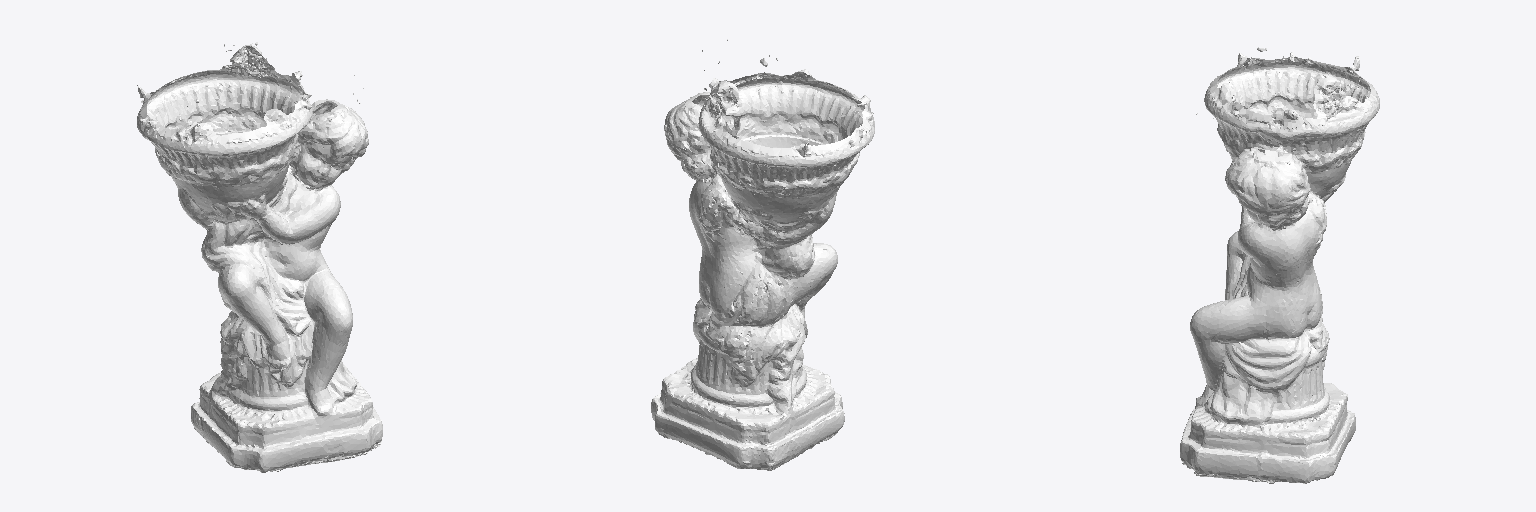
The model's file is angel_small.obj.
The picture shows the model from 3 angles: view 1: azimuth 30°, elevation 25°; view 2: azimuth 150°, elevation 25°; view 3: azimuth 270°, elevation 25°; orthographic projection.
Size of the model in its own units: 0.5201 by 0.9102 by 0.4394.